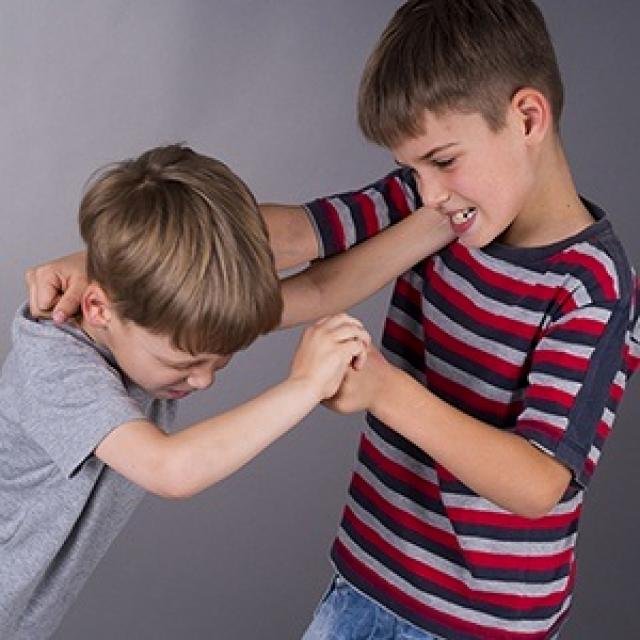fight: (28, 0, 627, 619)
